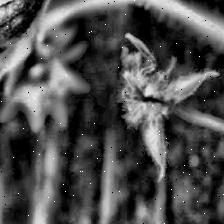Gray Mold: (117, 32, 219, 180)
